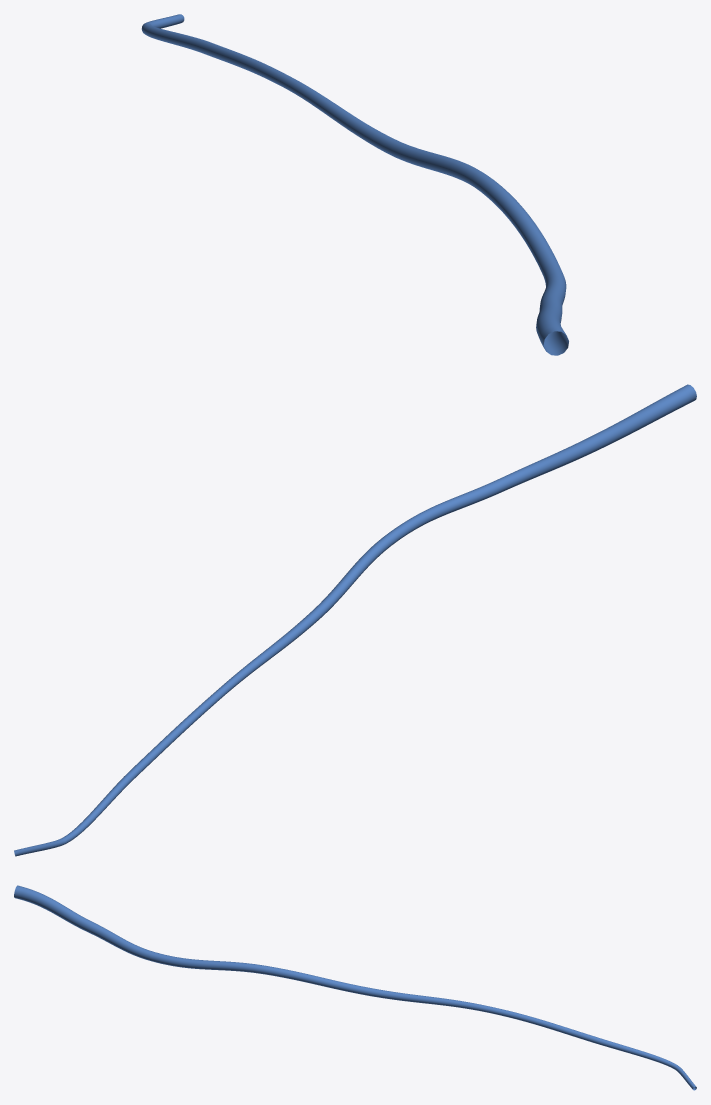
The picture shows the model from 3 angles, top to bottom: view 1: azimuth 30°, elevation 25°; view 2: azimuth 150°, elevation 25°; view 3: azimuth 270°, elevation 25°; orthographic projection. The views are drawn at different scales.
Visible parts, largest first — view 1: 左侧桡静脉; view 2: 左侧桡静脉; view 3: 左侧桡静脉.
Part boxes in pixels (bbox=[...]): 左侧桡静脉: bbox=[141, 14, 568, 355]; 左侧桡静脉: bbox=[14, 384, 696, 856]; 左侧桡静脉: bbox=[14, 885, 696, 1090].
Bounding box in the file's own units: 0.0819 × 0.0649 × 0.3067.
